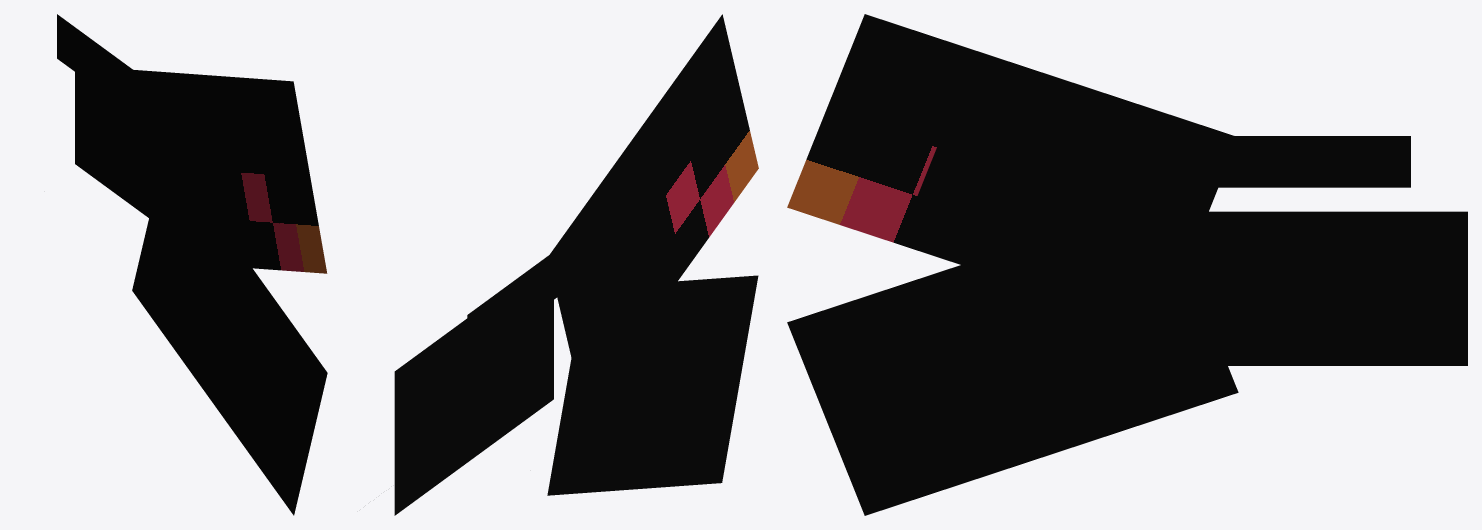
3 renders of one model, left to right at view 1: azimuth 30°, elevation 25°; view 2: azimuth 150°, elevation 25°; view 3: azimuth 270°, elevation 25°, orthographic. The views are drawn at different scales.
Parts seen in each view (by area): view 1: d2f21c17-bd1f-dfe8-40f6-e131e8a586dd, d4a8d100-af02-8007-f97f-e3657d38cddc, c724c8bd-8c0c-3a6d-cf9c-a4d1a0bbebd8, f7ff855a-128f-ca81-b061-b61cac5d1ffd; view 2: d2f21c17-bd1f-dfe8-40f6-e131e8a586dd, d4a8d100-af02-8007-f97f-e3657d38cddc, c724c8bd-8c0c-3a6d-cf9c-a4d1a0bbebd8, f7ff855a-128f-ca81-b061-b61cac5d1ffd; view 3: c724c8bd-8c0c-3a6d-cf9c-a4d1a0bbebd8, d4a8d100-af02-8007-f97f-e3657d38cddc, d2f21c17-bd1f-dfe8-40f6-e131e8a586dd, f02fc221-e10a-fd6b-811e-d7535617e753, c55c76e7-1907-d962-5885-074535c78574, f7ff855a-128f-ca81-b061-b61cac5d1ffd.
Boxes of the visible parts, x1=… form: d2f21c17-bd1f-dfe8-40f6-e131e8a586dd: x1=134, y1=70, x2=327, y2=273; d4a8d100-af02-8007-f97f-e3657d38cddc: x1=132, y1=198, x2=327, y2=515; c724c8bd-8c0c-3a6d-cf9c-a4d1a0bbebd8: x1=75, y1=72, x2=153, y2=217; f7ff855a-128f-ca81-b061-b61cac5d1ffd: x1=57, y1=14, x2=155, y2=129; d2f21c17-bd1f-dfe8-40f6-e131e8a586dd: x1=548, y1=14, x2=758, y2=411; d4a8d100-af02-8007-f97f-e3657d38cddc: x1=547, y1=275, x2=758, y2=495; c724c8bd-8c0c-3a6d-cf9c-a4d1a0bbebd8: x1=394, y1=300, x2=553, y2=515; f7ff855a-128f-ca81-b061-b61cac5d1ffd: x1=467, y1=244, x2=571, y2=362; c724c8bd-8c0c-3a6d-cf9c-a4d1a0bbebd8: x1=1127, y1=211, x2=1467, y2=365; d4a8d100-af02-8007-f97f-e3657d38cddc: x1=787, y1=199, x2=1238, y2=515; d2f21c17-bd1f-dfe8-40f6-e131e8a586dd: x1=787, y1=14, x2=1233, y2=264; f02fc221-e10a-fd6b-811e-d7535617e753: x1=913, y1=109, x2=1165, y2=276; c55c76e7-1907-d962-5885-074535c78574: x1=913, y1=277, x2=1165, y2=443; f7ff855a-128f-ca81-b061-b61cac5d1ffd: x1=1183, y1=136, x2=1410, y2=187.
Bounding box in the file's own units: 3.42 × 9.74 × 11.98.
1 material, 1 textured.
